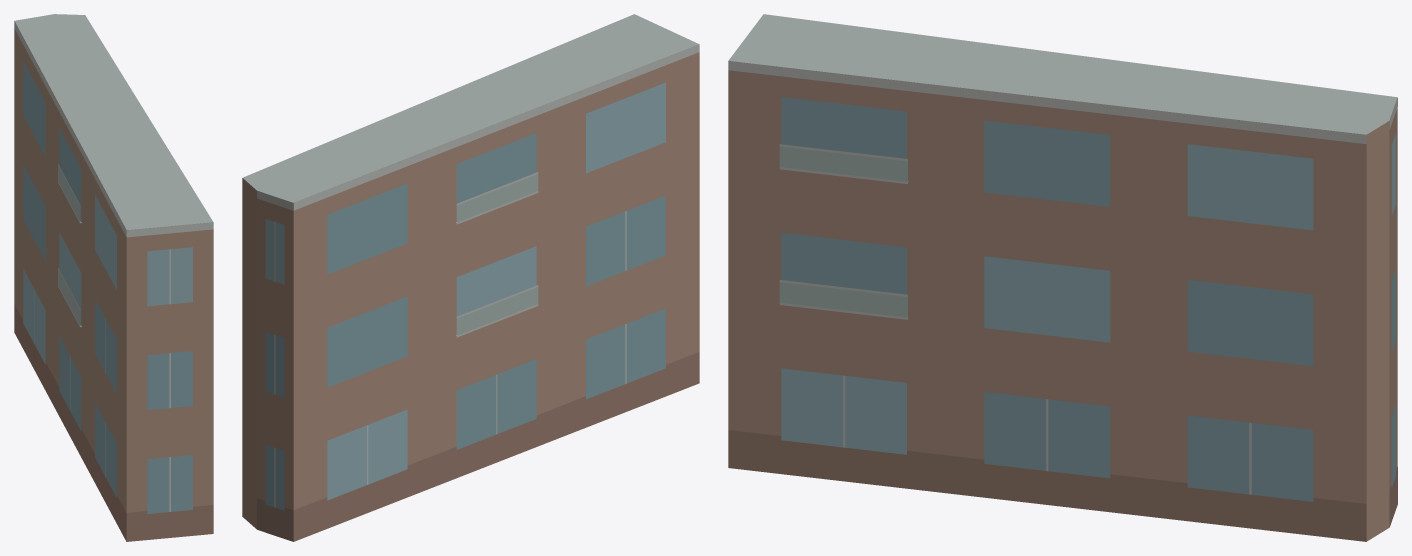
The model's file is survey-upis-32498827.glb.
3 renders of one model, left to right at view 1: azimuth 30°, elevation 25°; view 2: azimuth 150°, elevation 25°; view 3: azimuth 270°, elevation 25°, orthographic. The views are drawn at different scales.
Visible parts, largest first — view 1: survey-upis-32498827.tmp; view 2: survey-upis-32498827.tmp; view 3: survey-upis-32498827.tmp.
Part boxes in pixels (<box>): survey-upis-32498827.tmp: <box>14,14,213,541</box>; survey-upis-32498827.tmp: <box>242,14,699,541</box>; survey-upis-32498827.tmp: <box>728,14,1397,541</box>.
Bounding box in the file's own units: 6.71 × 10.53 × 15.71.
